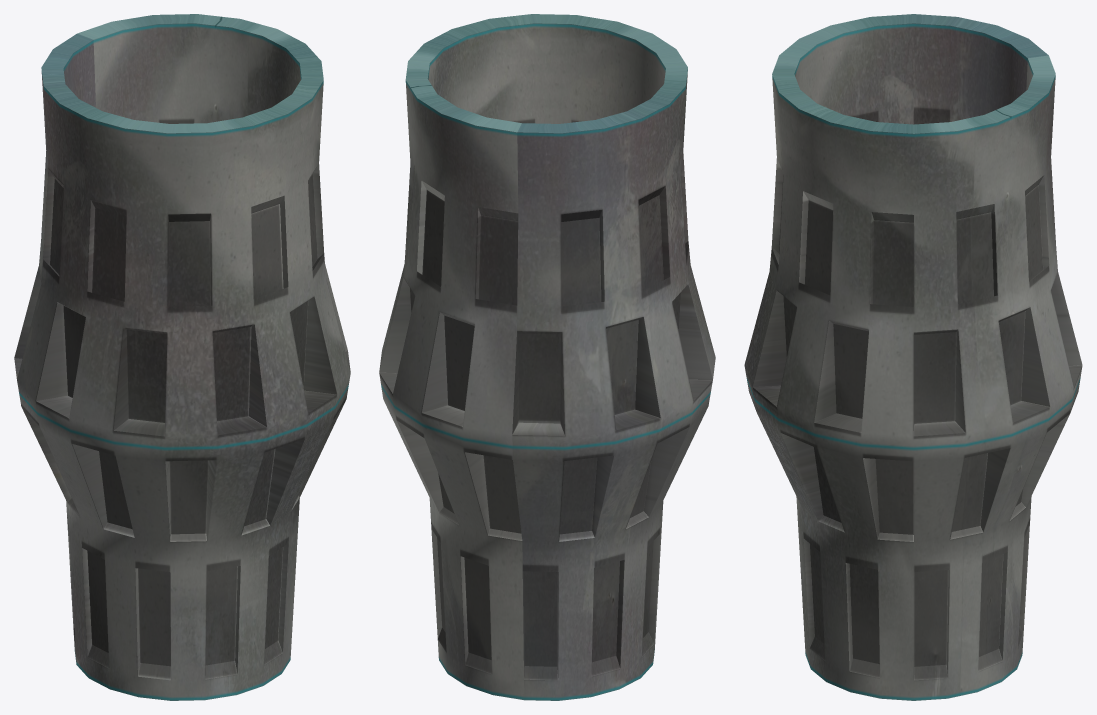
Rendered from Arm Piece.fbx.
3 renders of one model, left to right at view 1: azimuth 30°, elevation 25°; view 2: azimuth 150°, elevation 25°; view 3: azimuth 270°, elevation 25°, orthographic.
Parts seen in each view (by area): view 1: pPipe1; view 2: pPipe1; view 3: pPipe1.
Boxes of the visible parts, <box> form: pPipe1: <box>14,14,350,700</box>; pPipe1: <box>379,14,715,700</box>; pPipe1: <box>744,14,1082,700</box>.
Bounding box in the file's own units: 13.7 × 26 × 13.7.
Materials: 1 (1 with a texture image).
